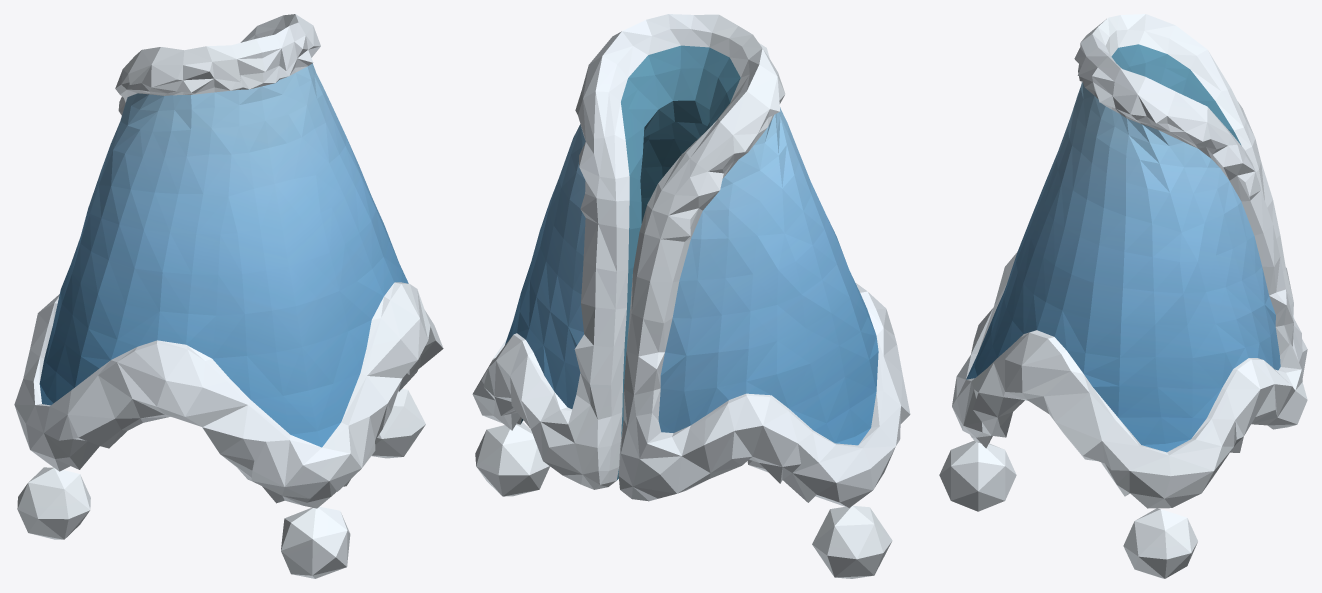
The model's file is CharSkyKid_Wing_Snowflake.glb.
3 renders of one model, left to right at view 1: azimuth 30°, elevation 25°; view 2: azimuth 150°, elevation 25°; view 3: azimuth 270°, elevation 25°, orthographic. The views are drawn at different scales.
Parts seen in each view (by area): view 1: CharSkyKid_Wing_Snowflake; view 2: CharSkyKid_Wing_Snowflake; view 3: CharSkyKid_Wing_Snowflake.
Part boxes in pixels (box(x1,y1,x2,y2)): CharSkyKid_Wing_Snowflake: box(14, 14, 443, 578); CharSkyKid_Wing_Snowflake: box(472, 14, 910, 578); CharSkyKid_Wing_Snowflake: box(939, 14, 1307, 578).
Size of the model in its own units: 7.28 by 8.64 by 6.06.
1 material, 1 textured.
